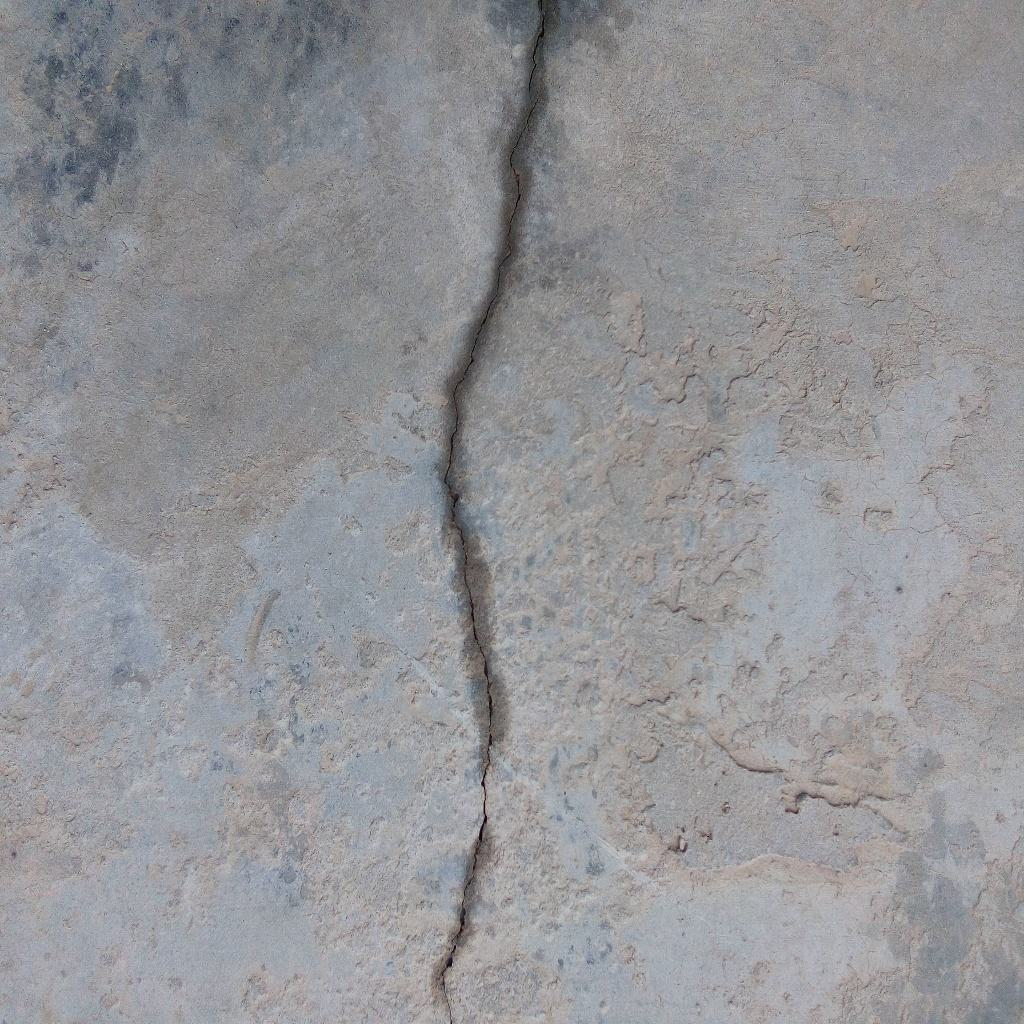Crack: (436, 1, 550, 1024)
